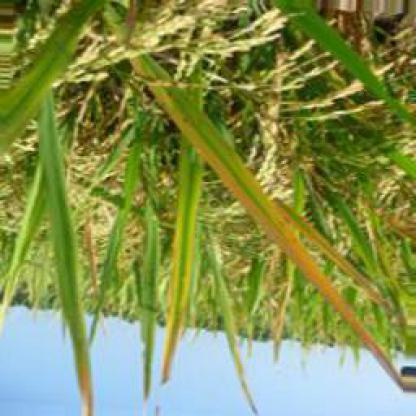Tungro: (143, 69, 408, 391), (156, 178, 206, 388), (60, 347, 102, 415)
